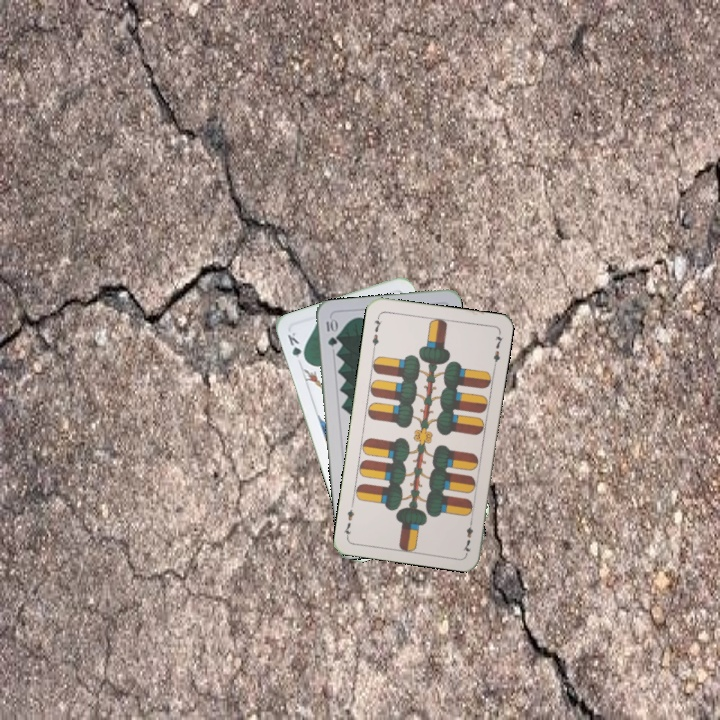E7: (368, 312, 385, 352), (459, 515, 475, 556)
G10: (322, 315, 339, 349)
GK: (283, 328, 309, 365)
